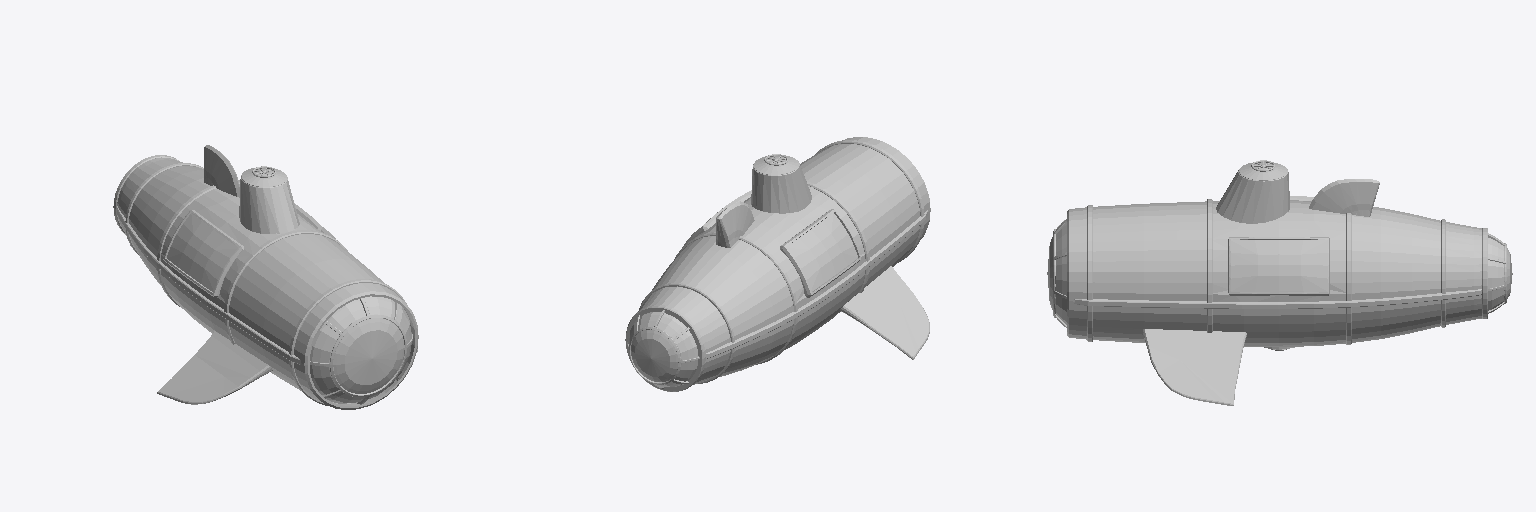
Rendered from Wrecked Long Submarine.obj.
3 views of the same model, side by side, from view 1: azimuth 30°, elevation 25°; view 2: azimuth 150°, elevation 25°; view 3: azimuth 270°, elevation 25° (orthographic).
Visible parts, largest first — view 1: Exterior, Glass0; view 2: Exterior, Glass0; view 3: Exterior, Glass0.
Part boxes in pixels (x1,y1,x2,y2): Exterior: (113, 145, 418, 409); Glass0: (167, 213, 411, 403); Exterior: (625, 137, 930, 391); Glass0: (628, 212, 857, 386); Exterior: (1053, 160, 1506, 405); Glass0: (1047, 219, 1512, 324).
Bounding box in the file's own units: 1615 × 1149 × 2656.